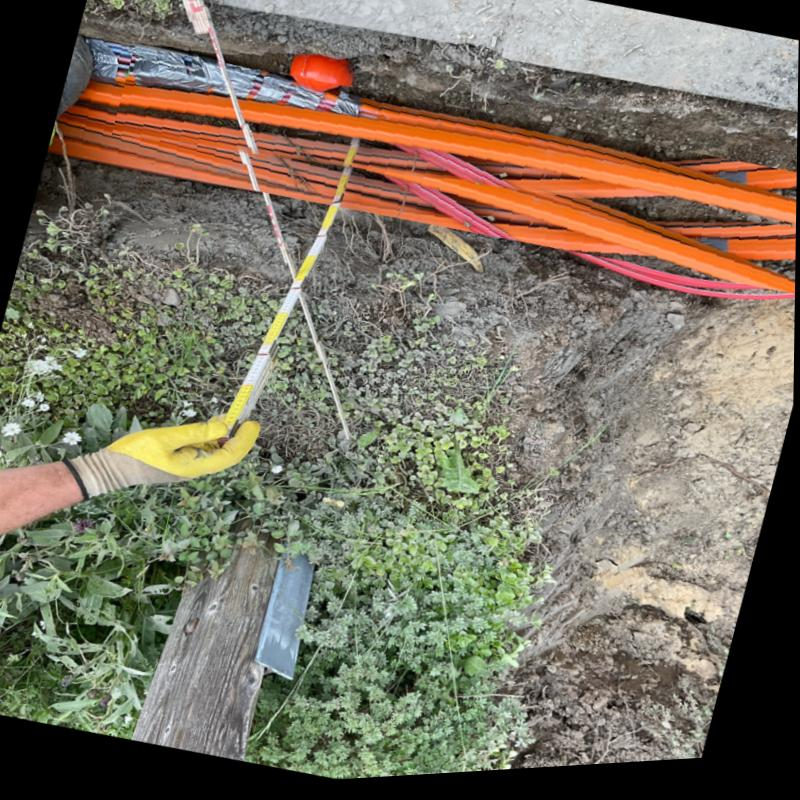NT-Detection: (291, 58, 351, 105)
Orang-Speednetrohrchen: (120, 53, 797, 240), (51, 108, 797, 259)
